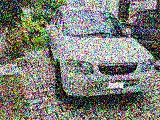car: (46, 6, 155, 101)
